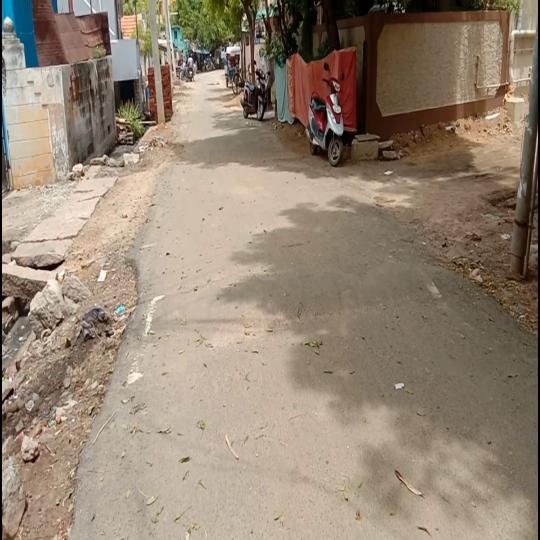Speed Bump: (125, 264, 458, 328)
